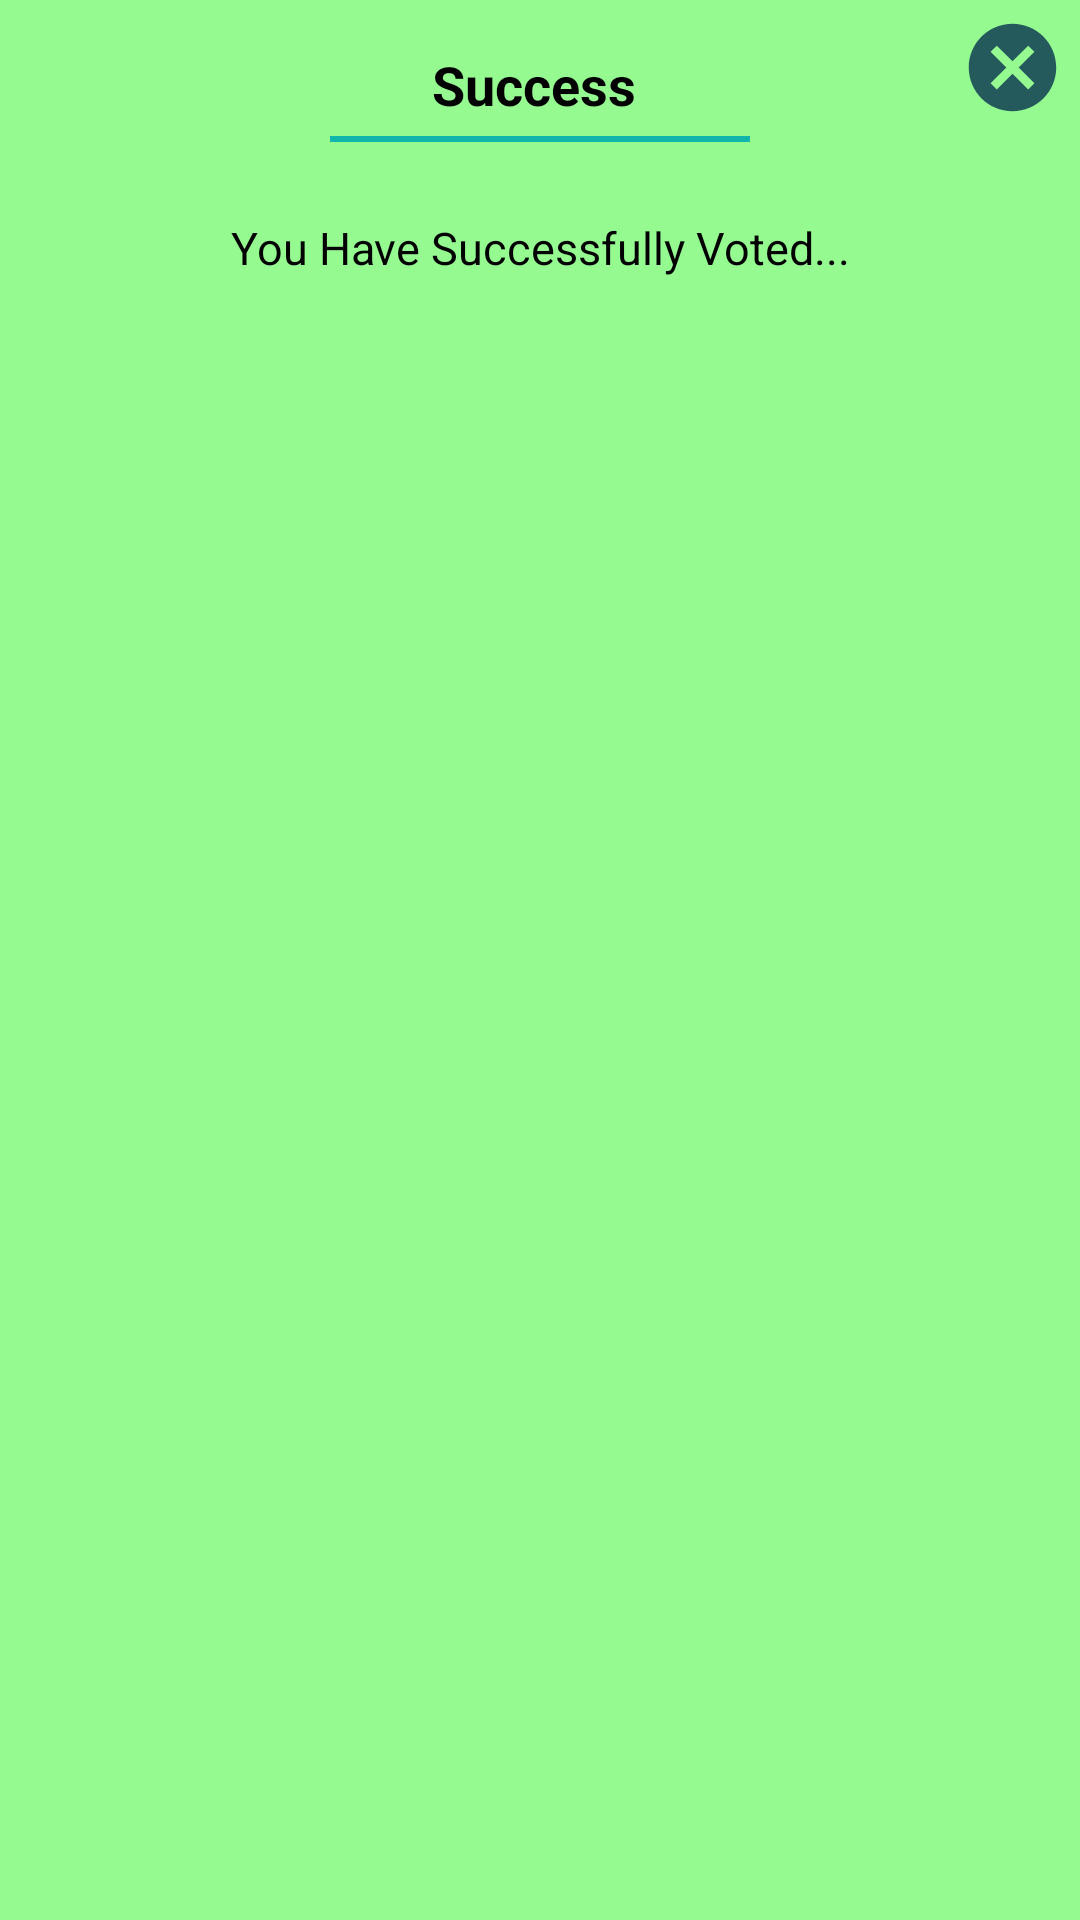

Locate icon controls on the screen. Image size 1080w x 1920h, boxes as [x1,y1,x2,y2].
cancel: [968,23,1057,112]
